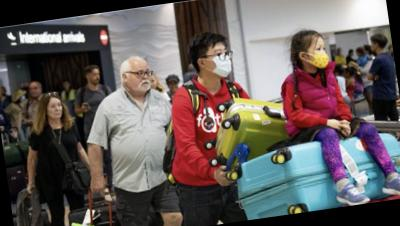with_mask: (203, 47, 235, 79), (306, 40, 332, 72)
without_mask: (129, 65, 156, 95), (47, 101, 65, 120), (26, 83, 43, 100), (89, 69, 102, 86), (167, 80, 181, 93)
